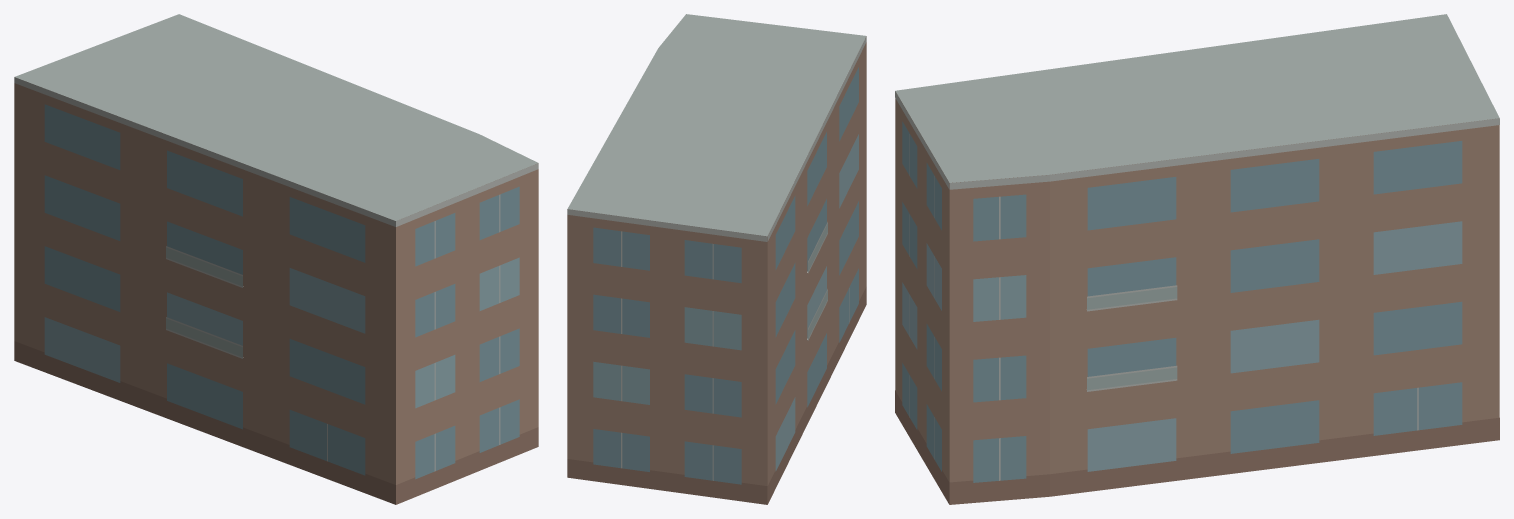
Rendered from survey-upis-32919097.glb.
3 views of the same model, side by side, from view 1: azimuth 30°, elevation 25°; view 2: azimuth 150°, elevation 25°; view 3: azimuth 270°, elevation 25° (orthographic). The views are drawn at different scales.
Parts seen in each view (by area): view 1: survey-upis-32919097.tmp; view 2: survey-upis-32919097.tmp; view 3: survey-upis-32919097.tmp.
Part boxes in pixels (x1=…): survey-upis-32919097.tmp: x1=14, y1=14, x2=538, y2=504; survey-upis-32919097.tmp: x1=567, y1=14, x2=866, y2=504; survey-upis-32919097.tmp: x1=895, y1=14, x2=1499, y2=504.
Size of the model in its own units: 12.96 by 11.5 by 19.59.
